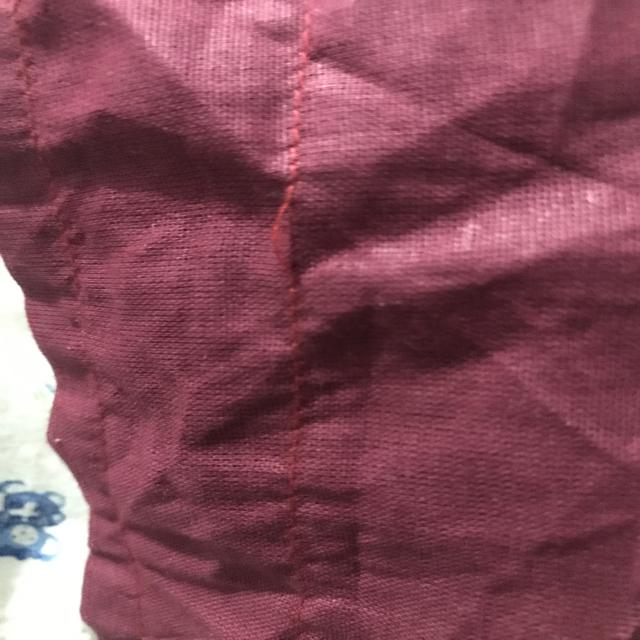skip: (243, 168, 333, 298)
